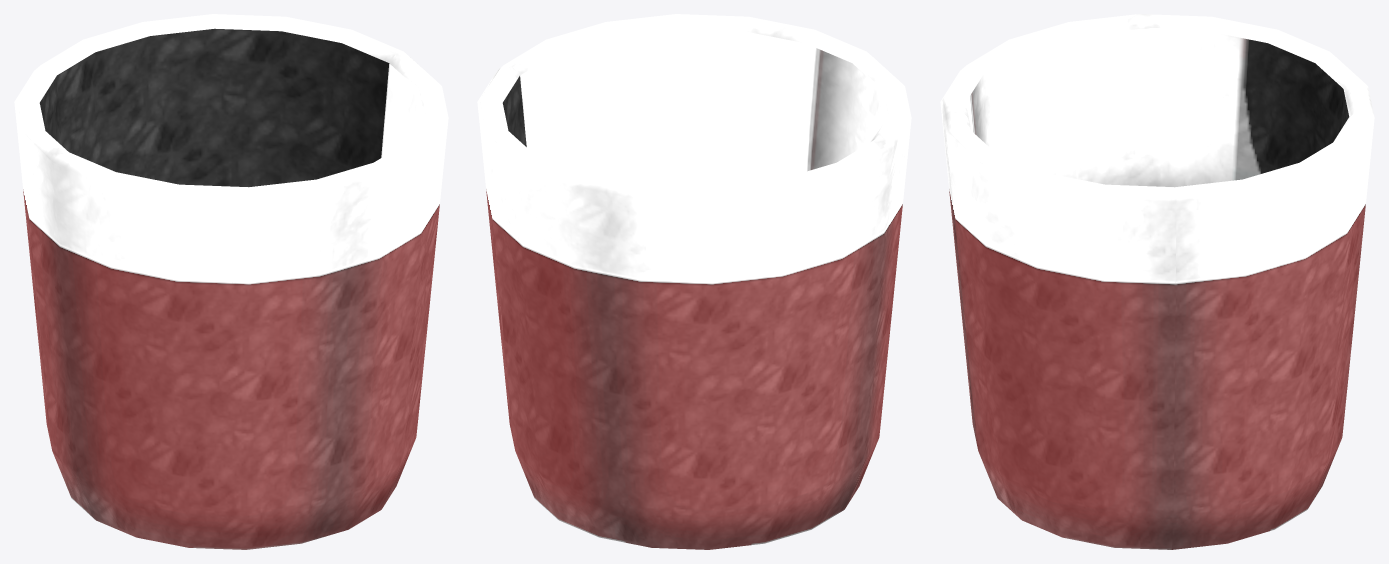
File: SM_TeaCup_Empty.fbx
3 views of the same model, side by side, from view 1: azimuth 30°, elevation 25°; view 2: azimuth 150°, elevation 25°; view 3: azimuth 270°, elevation 25° (orthographic).
Parts seen in each view (by area): view 1: SM_TeaCup_Empty_LOD0; view 2: SM_TeaCup_Empty_LOD0; view 3: SM_TeaCup_Empty_LOD0.
Boxes of the visible parts, x1,y1,x2,y2 form: SM_TeaCup_Empty_LOD0: [14, 14, 448, 549]; SM_TeaCup_Empty_LOD0: [477, 14, 911, 549]; SM_TeaCup_Empty_LOD0: [940, 14, 1374, 549].
Size of the model in its own units: 7.98 by 7.98 by 8.
